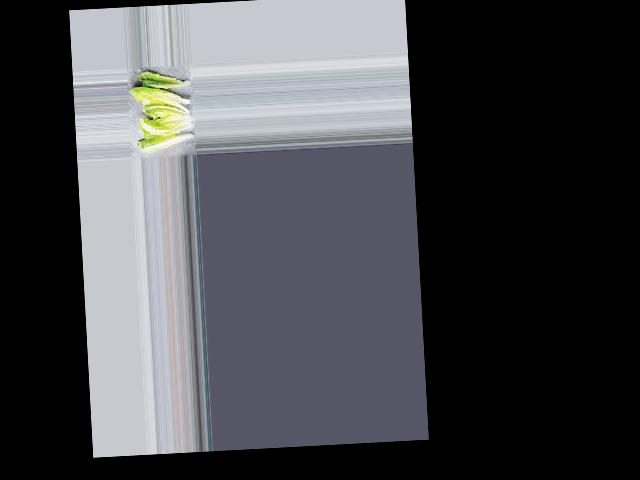lettuce: (138, 70, 192, 90)
